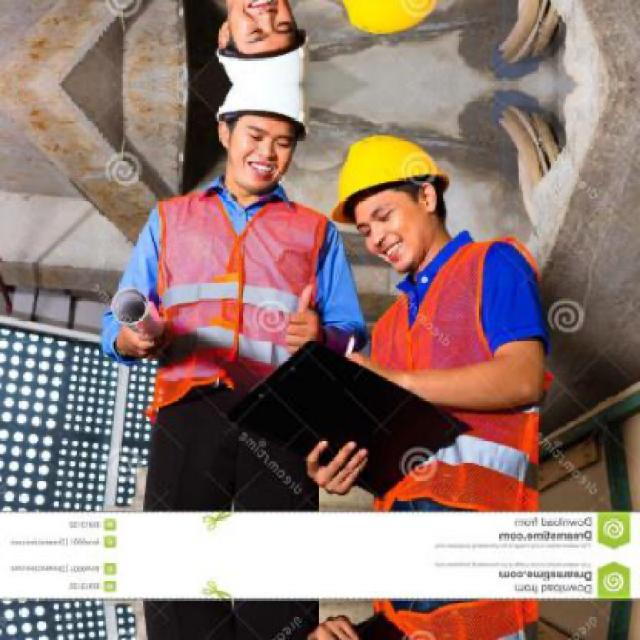helmet: (324, 122, 468, 266), (208, 83, 322, 202), (206, 0, 322, 85), (325, 0, 469, 46)
